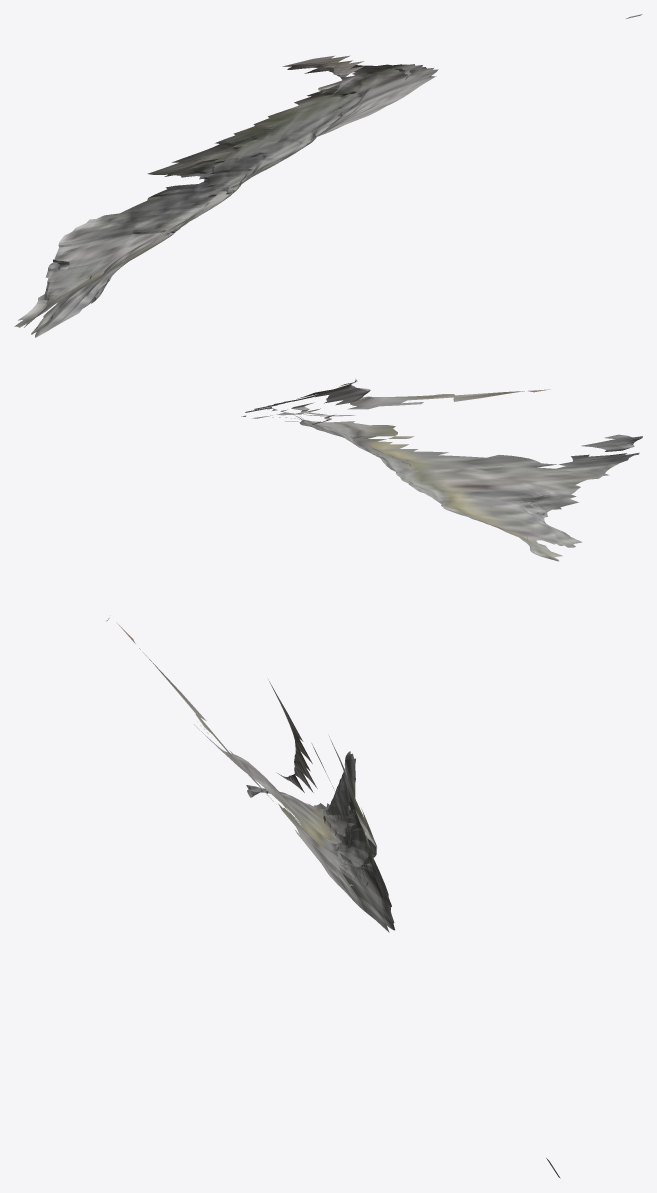
The model's file is entity-cable-tray-14.glb.
The picture shows the model from 3 angles, top to bottom: view 1: azimuth 30°, elevation 25°; view 2: azimuth 150°, elevation 25°; view 3: azimuth 270°, elevation 25°; orthographic projection. The views are drawn at different scales.
Parts seen in each view (by area): view 1: geometry_0; view 2: geometry_0; view 3: geometry_0.
Boxes of the visible parts, box(x1,y1,x2,y2) form: geometry_0: box(14, 14, 642, 337); geometry_0: box(241, 379, 642, 561); geometry_0: box(106, 618, 560, 1178).
Bounding box in the file's own units: 7.55 × 2.03 × 2.95.
